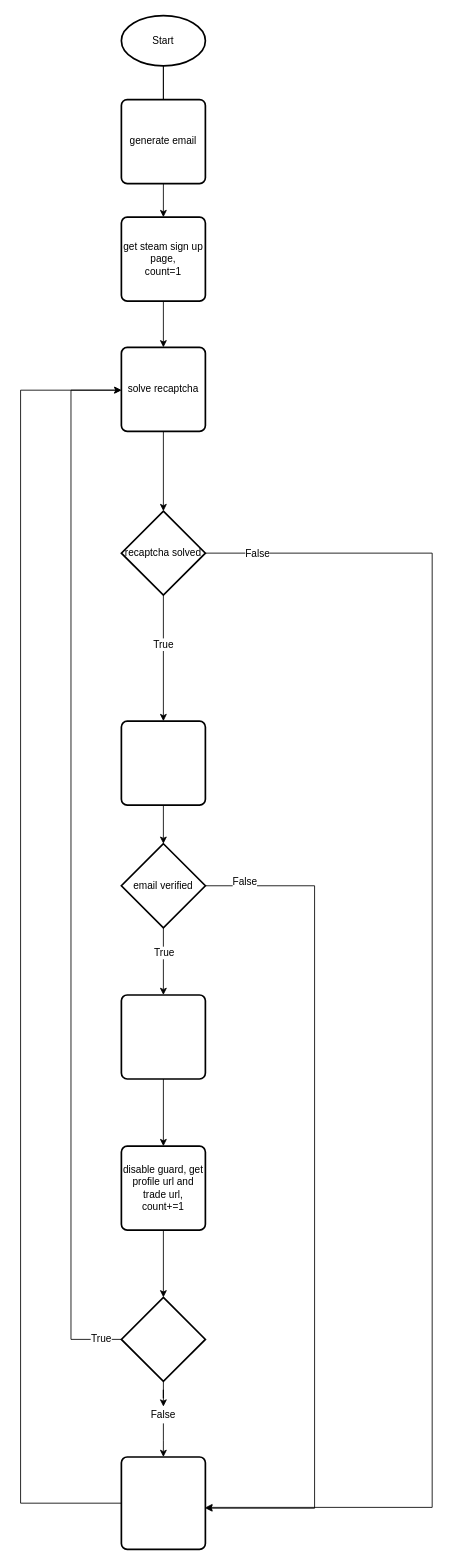
Image size: 454x1564. Some labels were removed from this diagram. Here are the shapes that lost their labels. From the top down, the centre of each, then its label:
At point (163, 763): "verify email".
At point (163, 1036): "complete sign up".
At point (163, 1339): "count<=10".
At point (163, 1503): "change ip".
